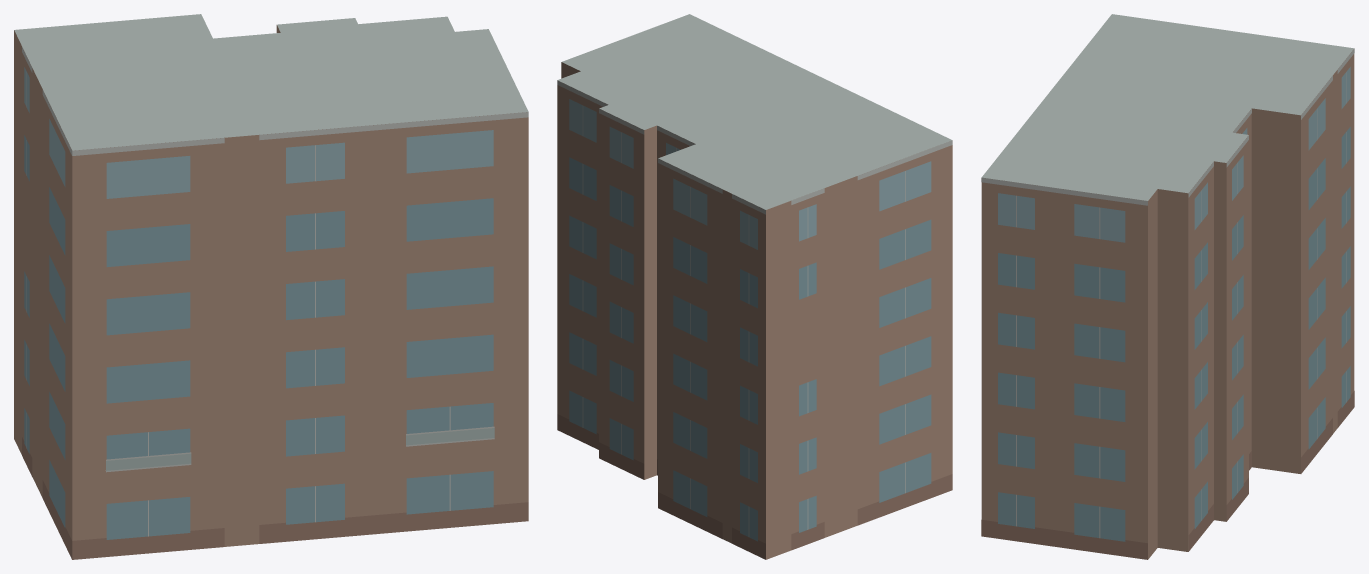
File: survey-upis-32698397.glb
3 renders of one model, left to right at view 1: azimuth 30°, elevation 25°; view 2: azimuth 150°, elevation 25°; view 3: azimuth 270°, elevation 25°, orthographic. The views are drawn at different scales.
Parts seen in each view (by area): view 1: survey-upis-32698397.tmp; view 2: survey-upis-32698397.tmp; view 3: survey-upis-32698397.tmp.
Boxes of the visible parts, bbox=[...] form: survey-upis-32698397.tmp: bbox=[14, 14, 528, 559]; survey-upis-32698397.tmp: bbox=[557, 14, 952, 559]; survey-upis-32698397.tmp: bbox=[981, 14, 1354, 559].
Bounding box in the file's own units: 20.46 × 18.3 × 17.25.
